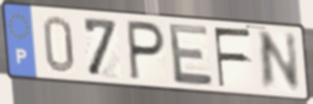0: (41, 14, 77, 76)
7: (81, 16, 121, 79)
E: (166, 21, 216, 87)
F: (212, 26, 254, 89)
N: (257, 30, 303, 93)
P: (125, 18, 167, 84)
